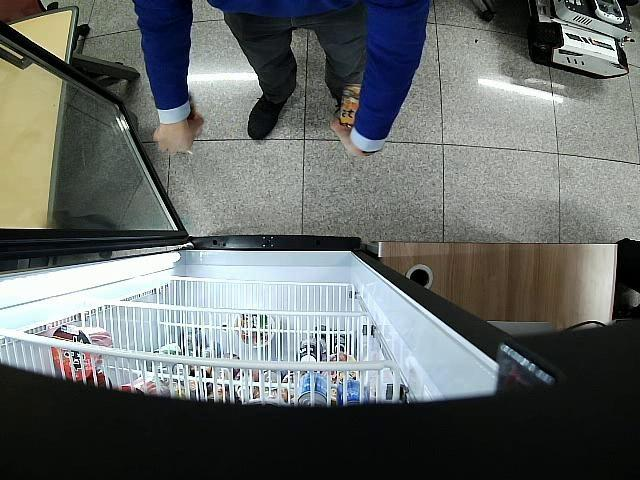06_nuguri_S: (339, 86, 363, 124)
